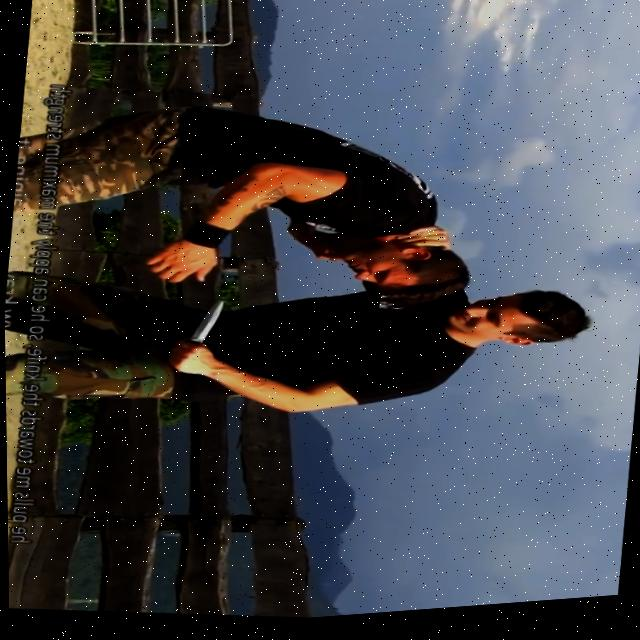knife: (181, 298, 224, 350)
